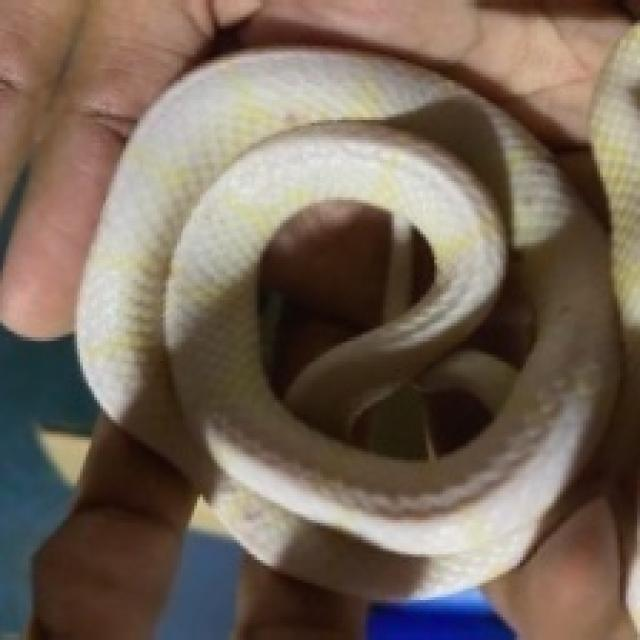gunthers philippine shrub snake: (51, 14, 637, 637), (77, 49, 617, 594), (591, 23, 637, 631)
